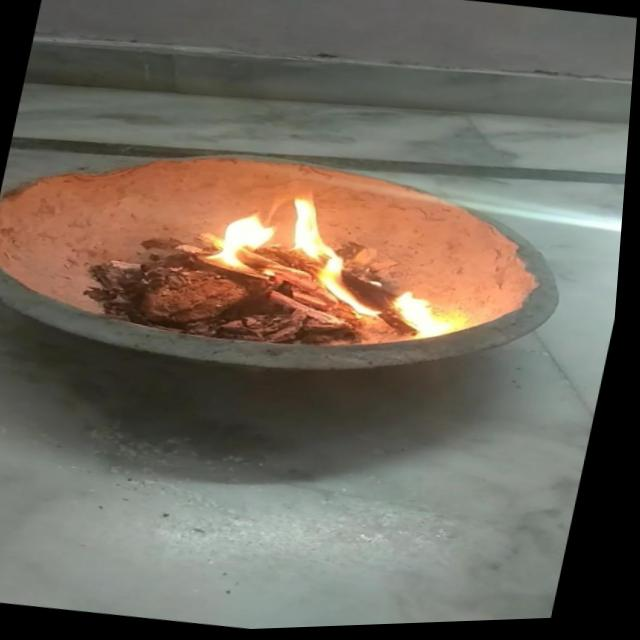fire: (195, 179, 410, 330), (379, 289, 471, 345)
